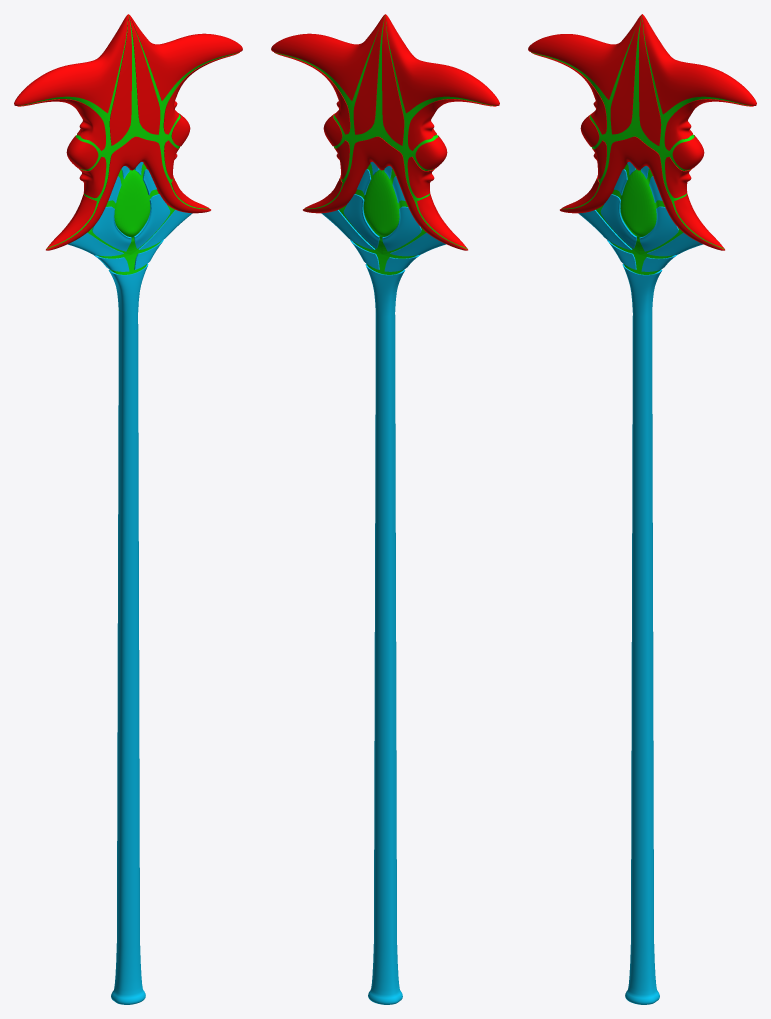
Rendered from Staff.fbx.
The picture shows the model from 3 angles, left to right: view 1: azimuth 30°, elevation 25°; view 2: azimuth 150°, elevation 25°; view 3: azimuth 330°, elevation 25°; orthographic projection.
Visible parts, largest first — view 1: Final; view 2: Final; view 3: Final.
Boxes of the visible parts, left/top/right/bottom form: Final: left=14, top=14, right=242, bottom=1004; Final: left=271, top=14, right=499, bottom=1004; Final: left=528, top=14, right=756, bottom=1004.
Size of the model in its own units: 45.76 by 189 by 5.55.
